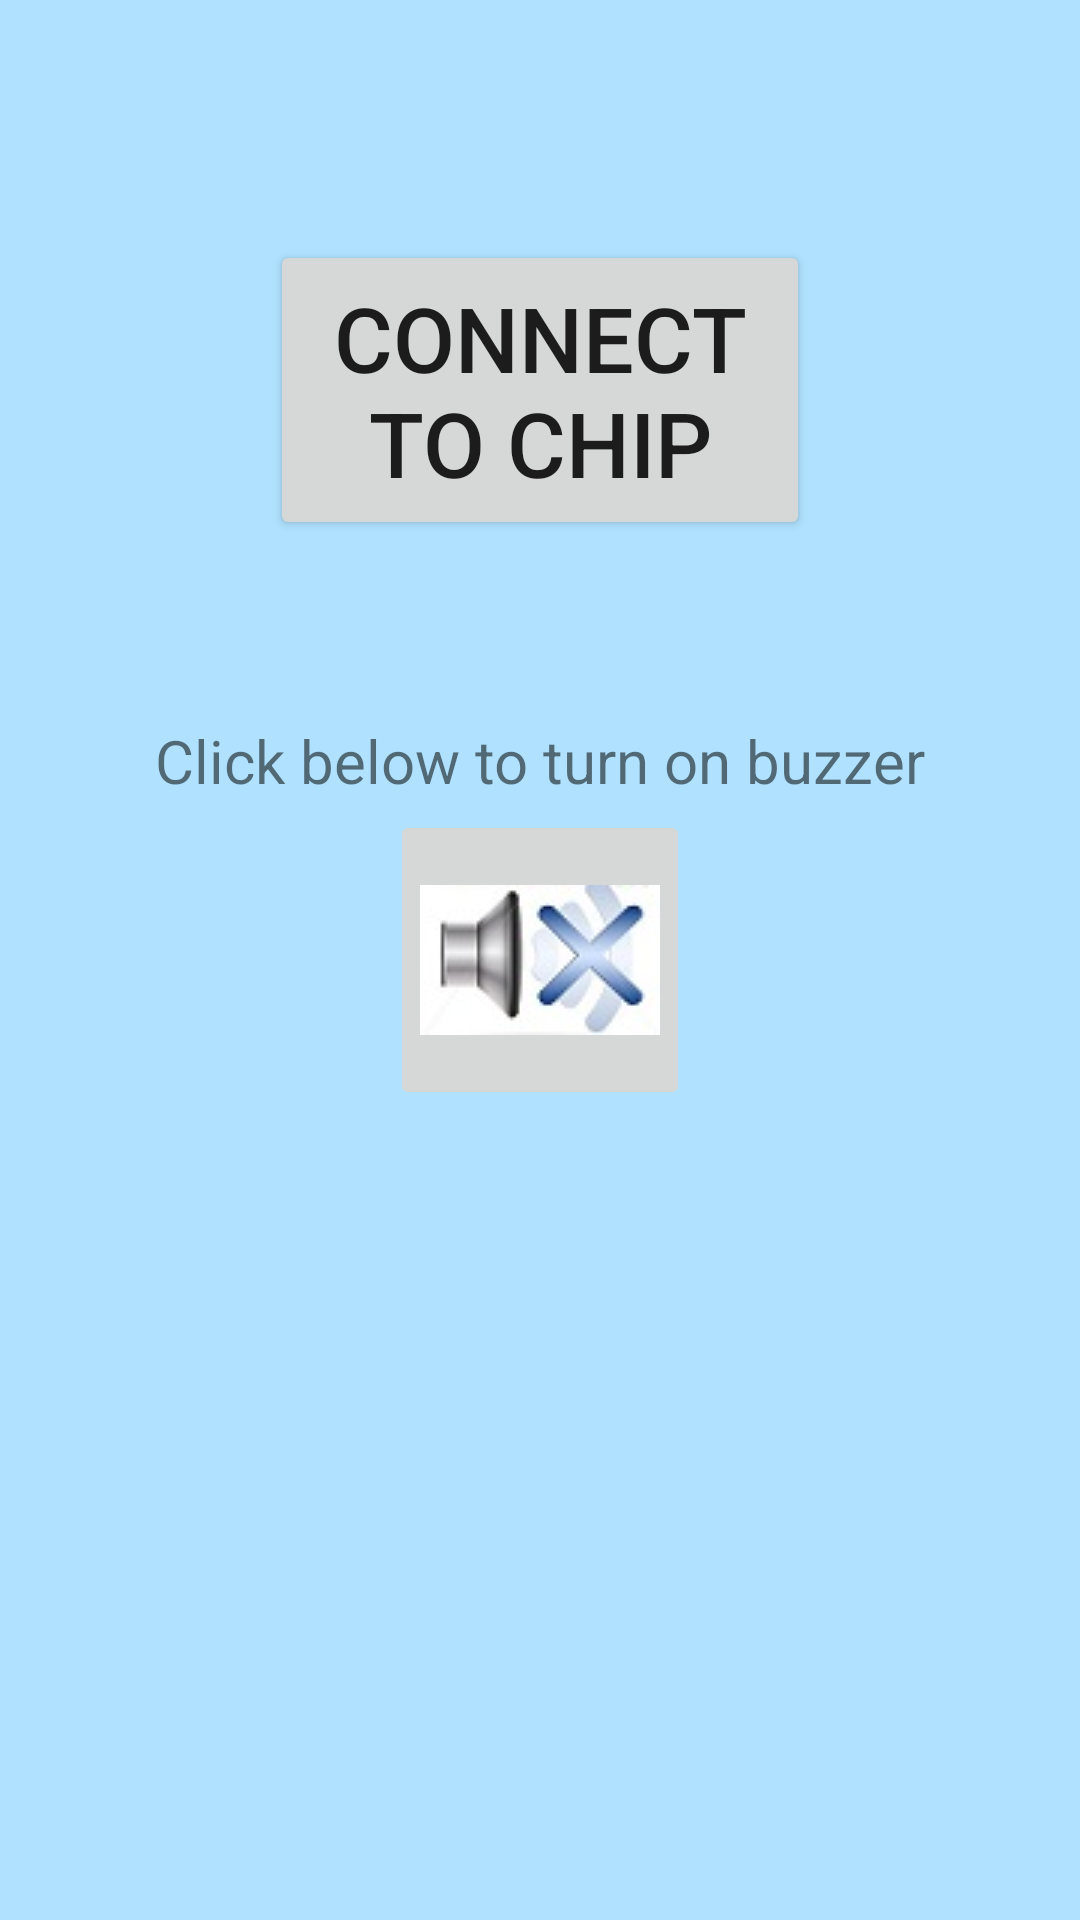

Locate icon controls on the screen. Image size 1080x1920, boxes as (x1, y1, x2, y2).
sound off: (402, 828, 678, 1092)
